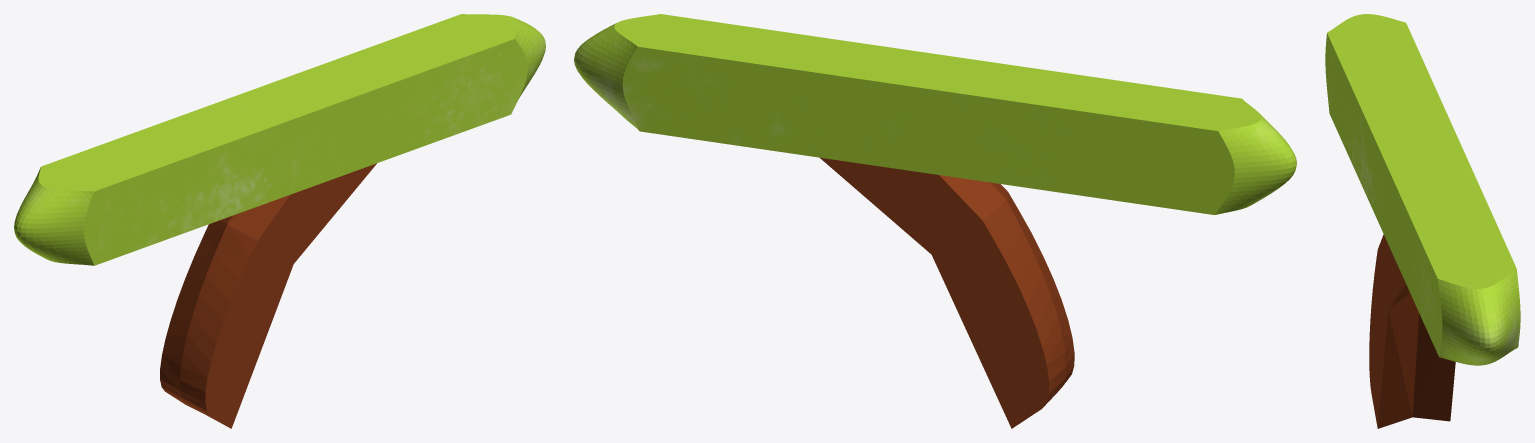
The model's file is bossGrapesBranch.obj.
3 views of the same model, side by side, from view 1: azimuth 30°, elevation 25°; view 2: azimuth 150°, elevation 25°; view 3: azimuth 270°, elevation 25° (orthographic). The views are drawn at different scales.
Visible parts, largest first — view 1: 立方体; view 2: 立方体; view 3: 立方体.
Boxes of the visible parts, x1=… form: 立方体: x1=14, y1=14, x2=545, y2=428; 立方体: x1=574, y1=14, x2=1296, y2=428; 立方体: x1=1325, y1=14, x2=1520, y2=428.
Size of the model in its own units: 0.5042 by 0.2416 by 0.136.
1 material, 1 textured.
